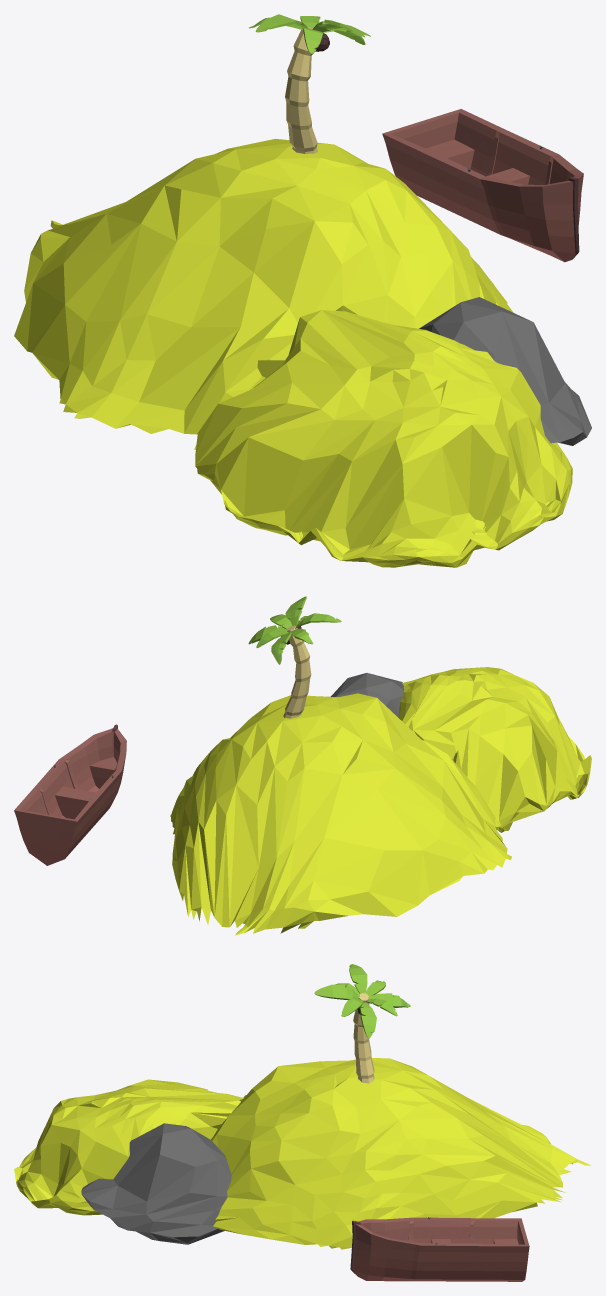
Rendered from island.glb.
The picture shows the model from 3 angles, top to bottom: view 1: azimuth 30°, elevation 25°; view 2: azimuth 150°, elevation 25°; view 3: azimuth 270°, elevation 25°; orthographic projection. The views are drawn at different scales.
Parts seen in each view (by area): view 1: Icosphere.002, Boat, Icosphere.001, Tree; view 2: Icosphere.002, Boat, Tree, Icosphere.001; view 3: Icosphere.002, Icosphere.001, Boat, Tree.
Boxes of the visible parts, x1=… form: Icosphere.002: x1=14, y1=138, x2=572, y2=567; Boat: x1=382, y1=109, x2=583, y2=262; Icosphere.001: x1=419, y1=297, x2=591, y2=445; Tree: x1=249, y1=14, x2=370, y2=153; Icosphere.002: x1=170, y1=667, x2=591, y2=935; Boat: x1=14, y1=724, x2=126, y2=865; Tree: x1=248, y1=596, x2=341, y2=718; Icosphere.001: x1=330, y1=673, x2=404, y2=718; Icosphere.002: x1=14, y1=1058, x2=591, y2=1249; Icosphere.001: x1=81, y1=1123, x2=231, y2=1244; Boat: x1=350, y1=1217, x2=529, y2=1281; Tree: x1=314, y1=964, x2=410, y2=1083.
Size of what is drawn, in the model's own units: 65.66 by 40.34 by 86.45.
Materials: 4 (2 with a texture image).
